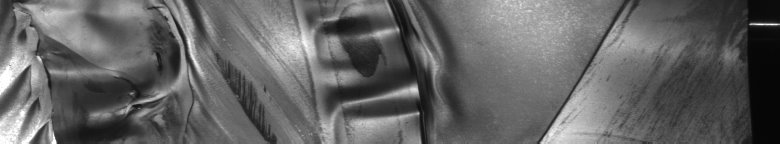ke: (4, 4, 442, 136)
